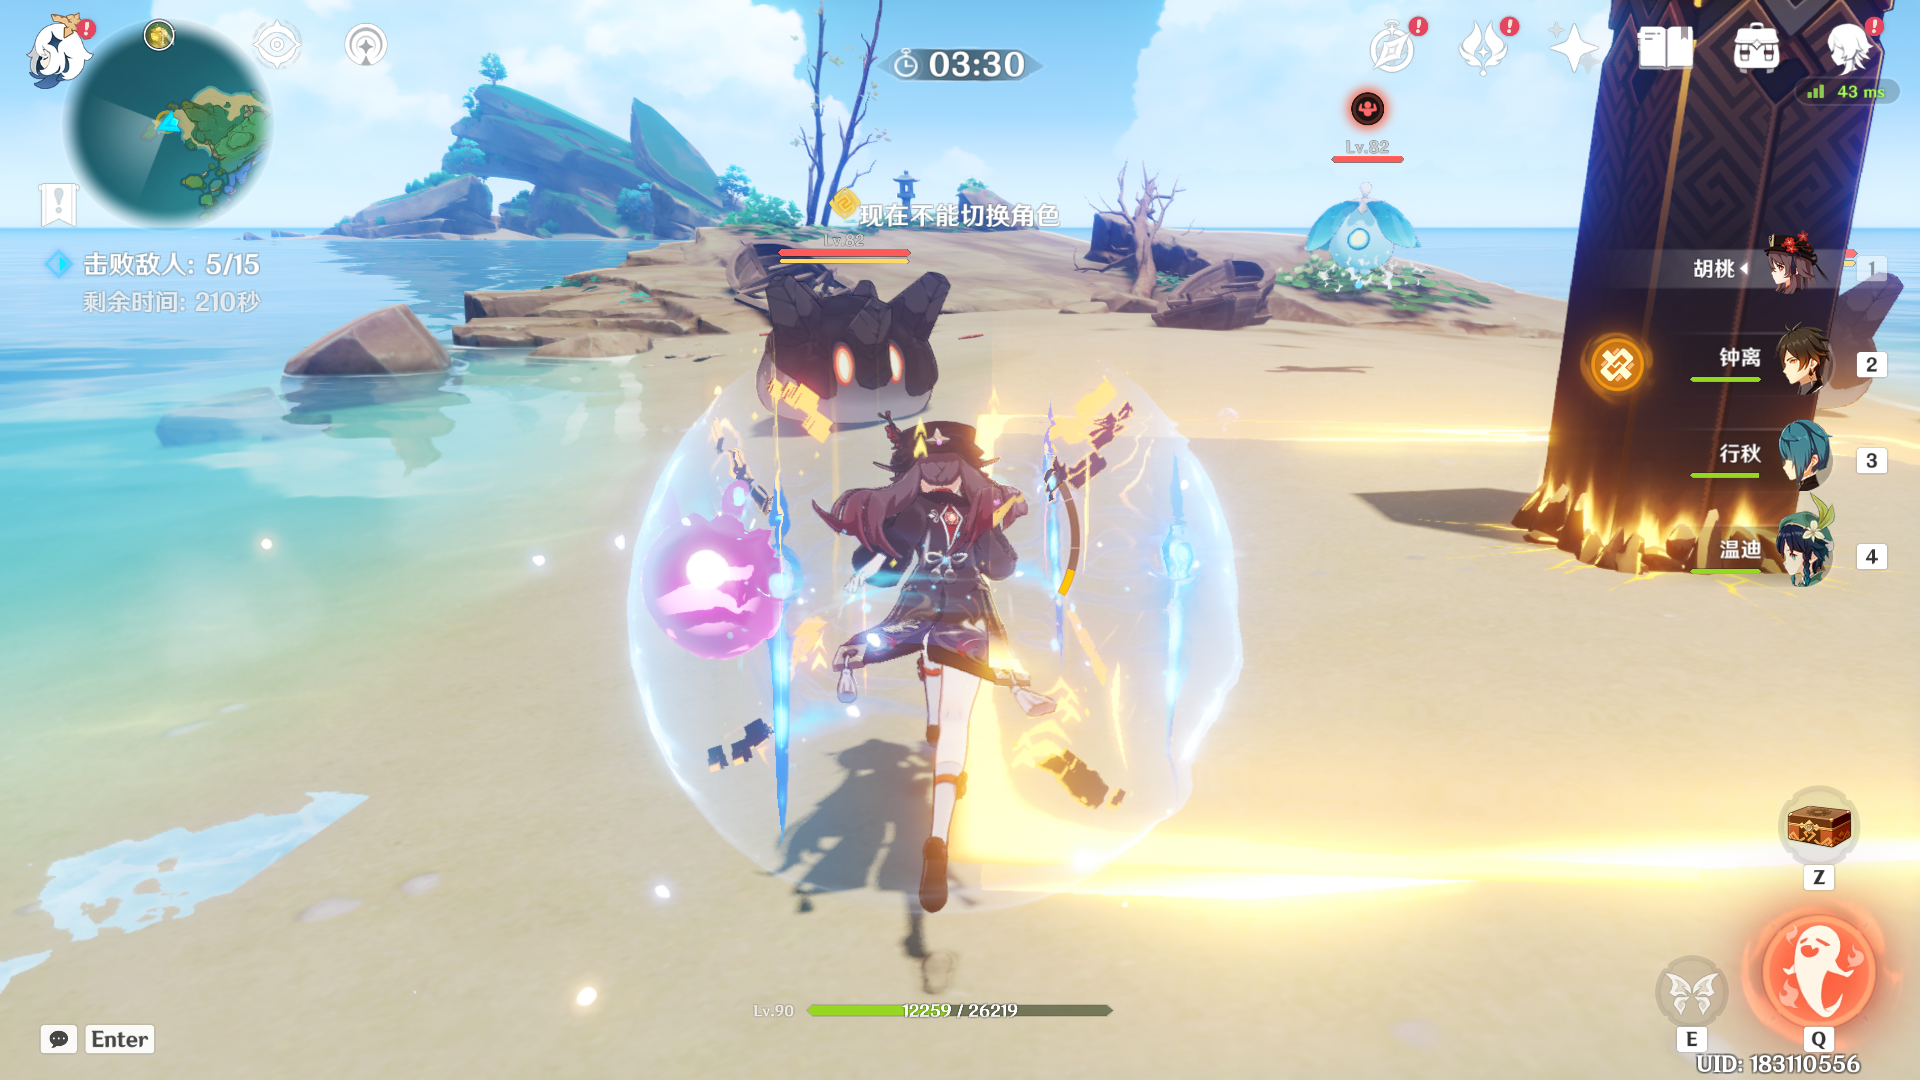character: (822, 378, 1088, 920)
slime: (727, 273, 972, 433)
